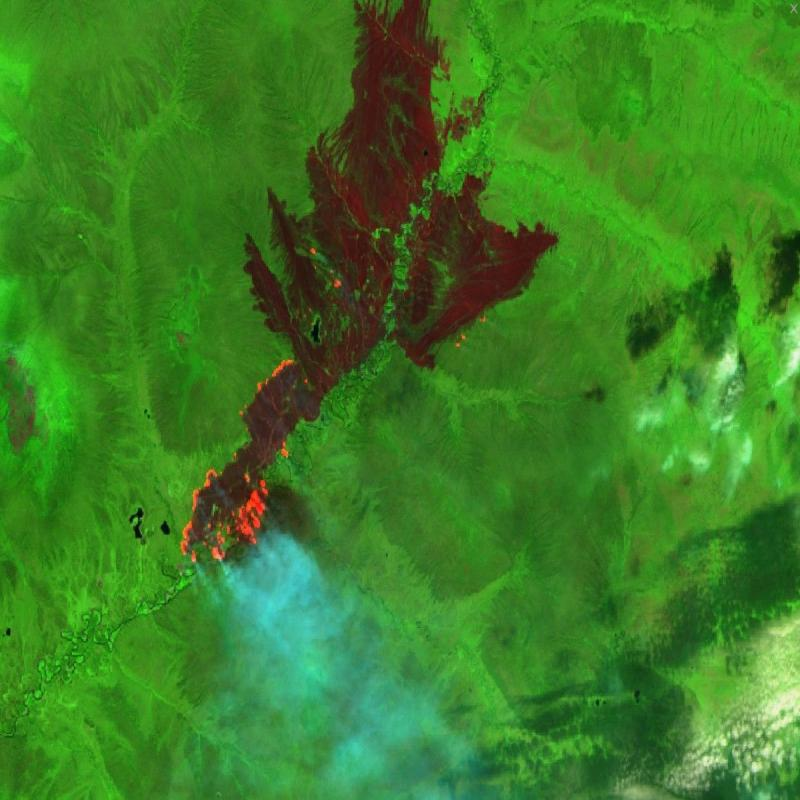fire: (177, 350, 316, 574)
